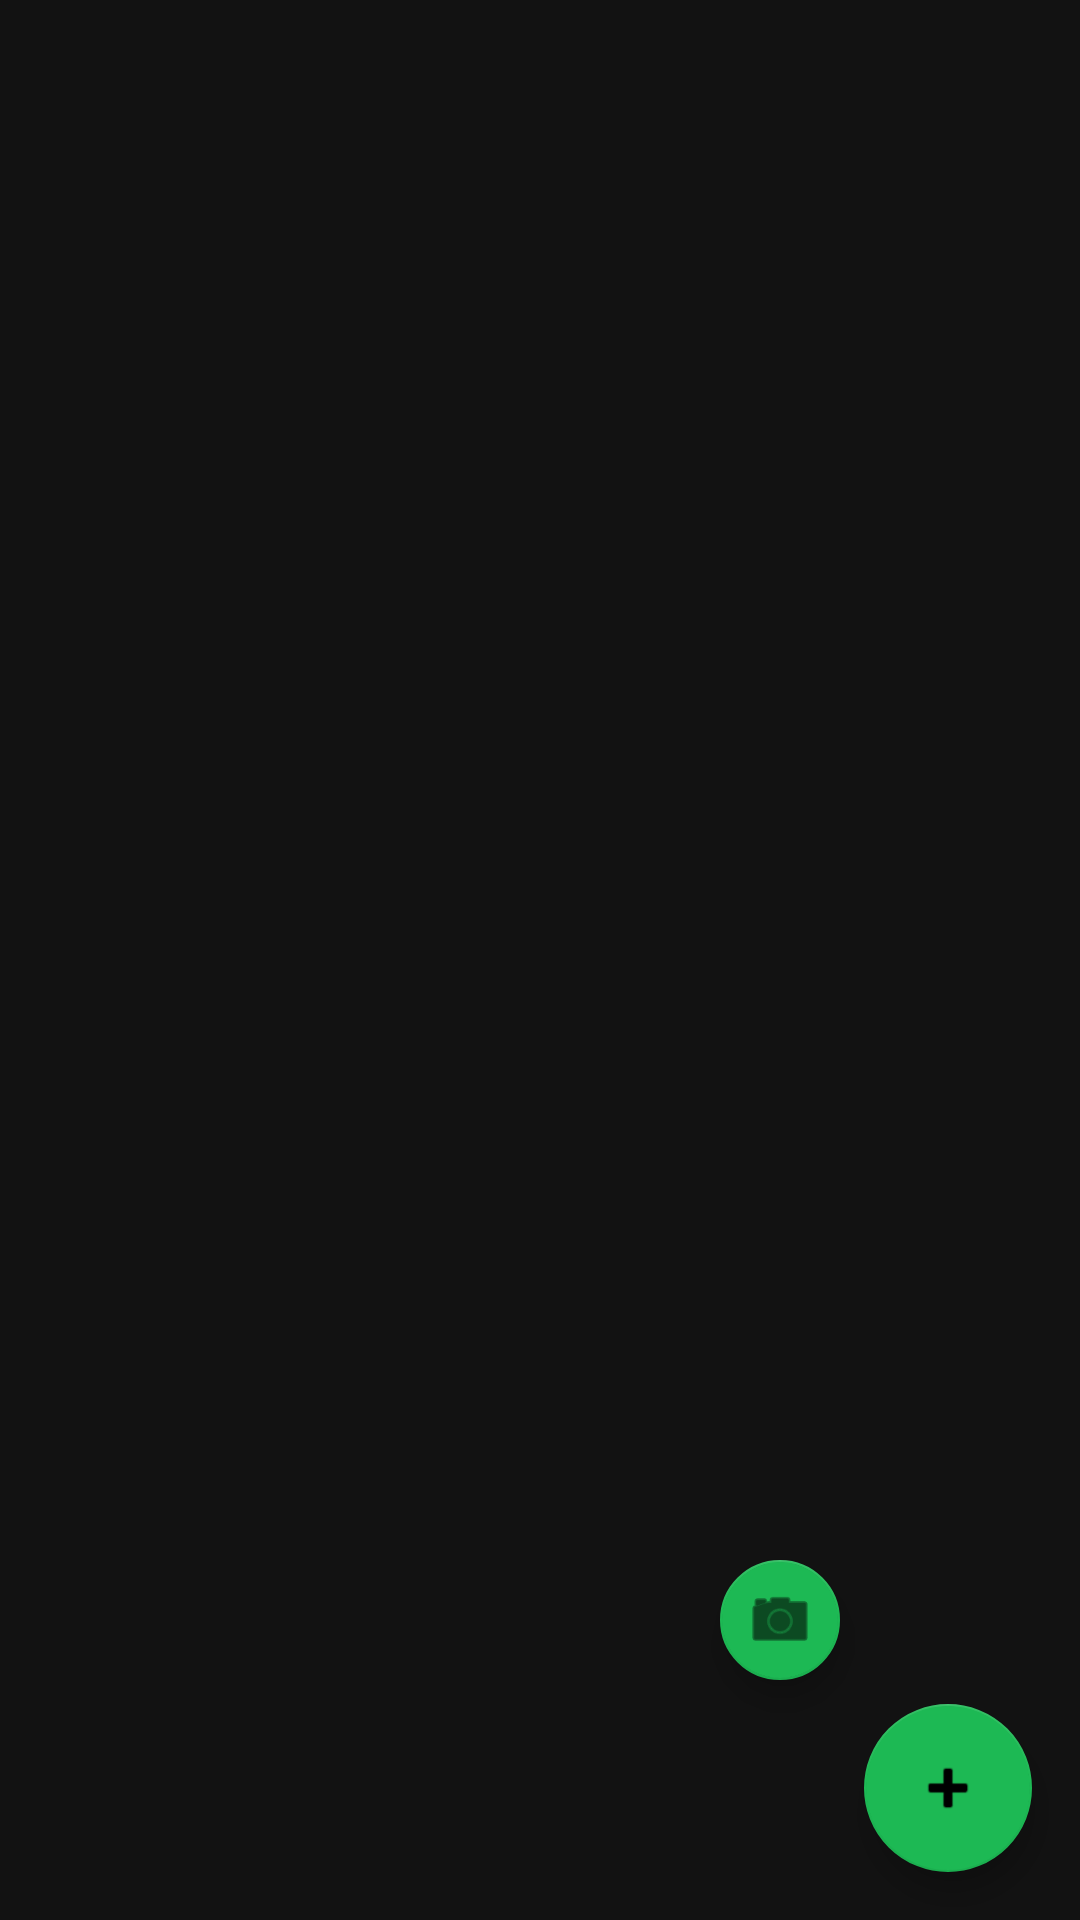

Named icons in this screenshot (1080 x 1920) and their centers, point (x, y):
Add Inventory: point (948, 1788)
Scan Inventory: point (780, 1620)
